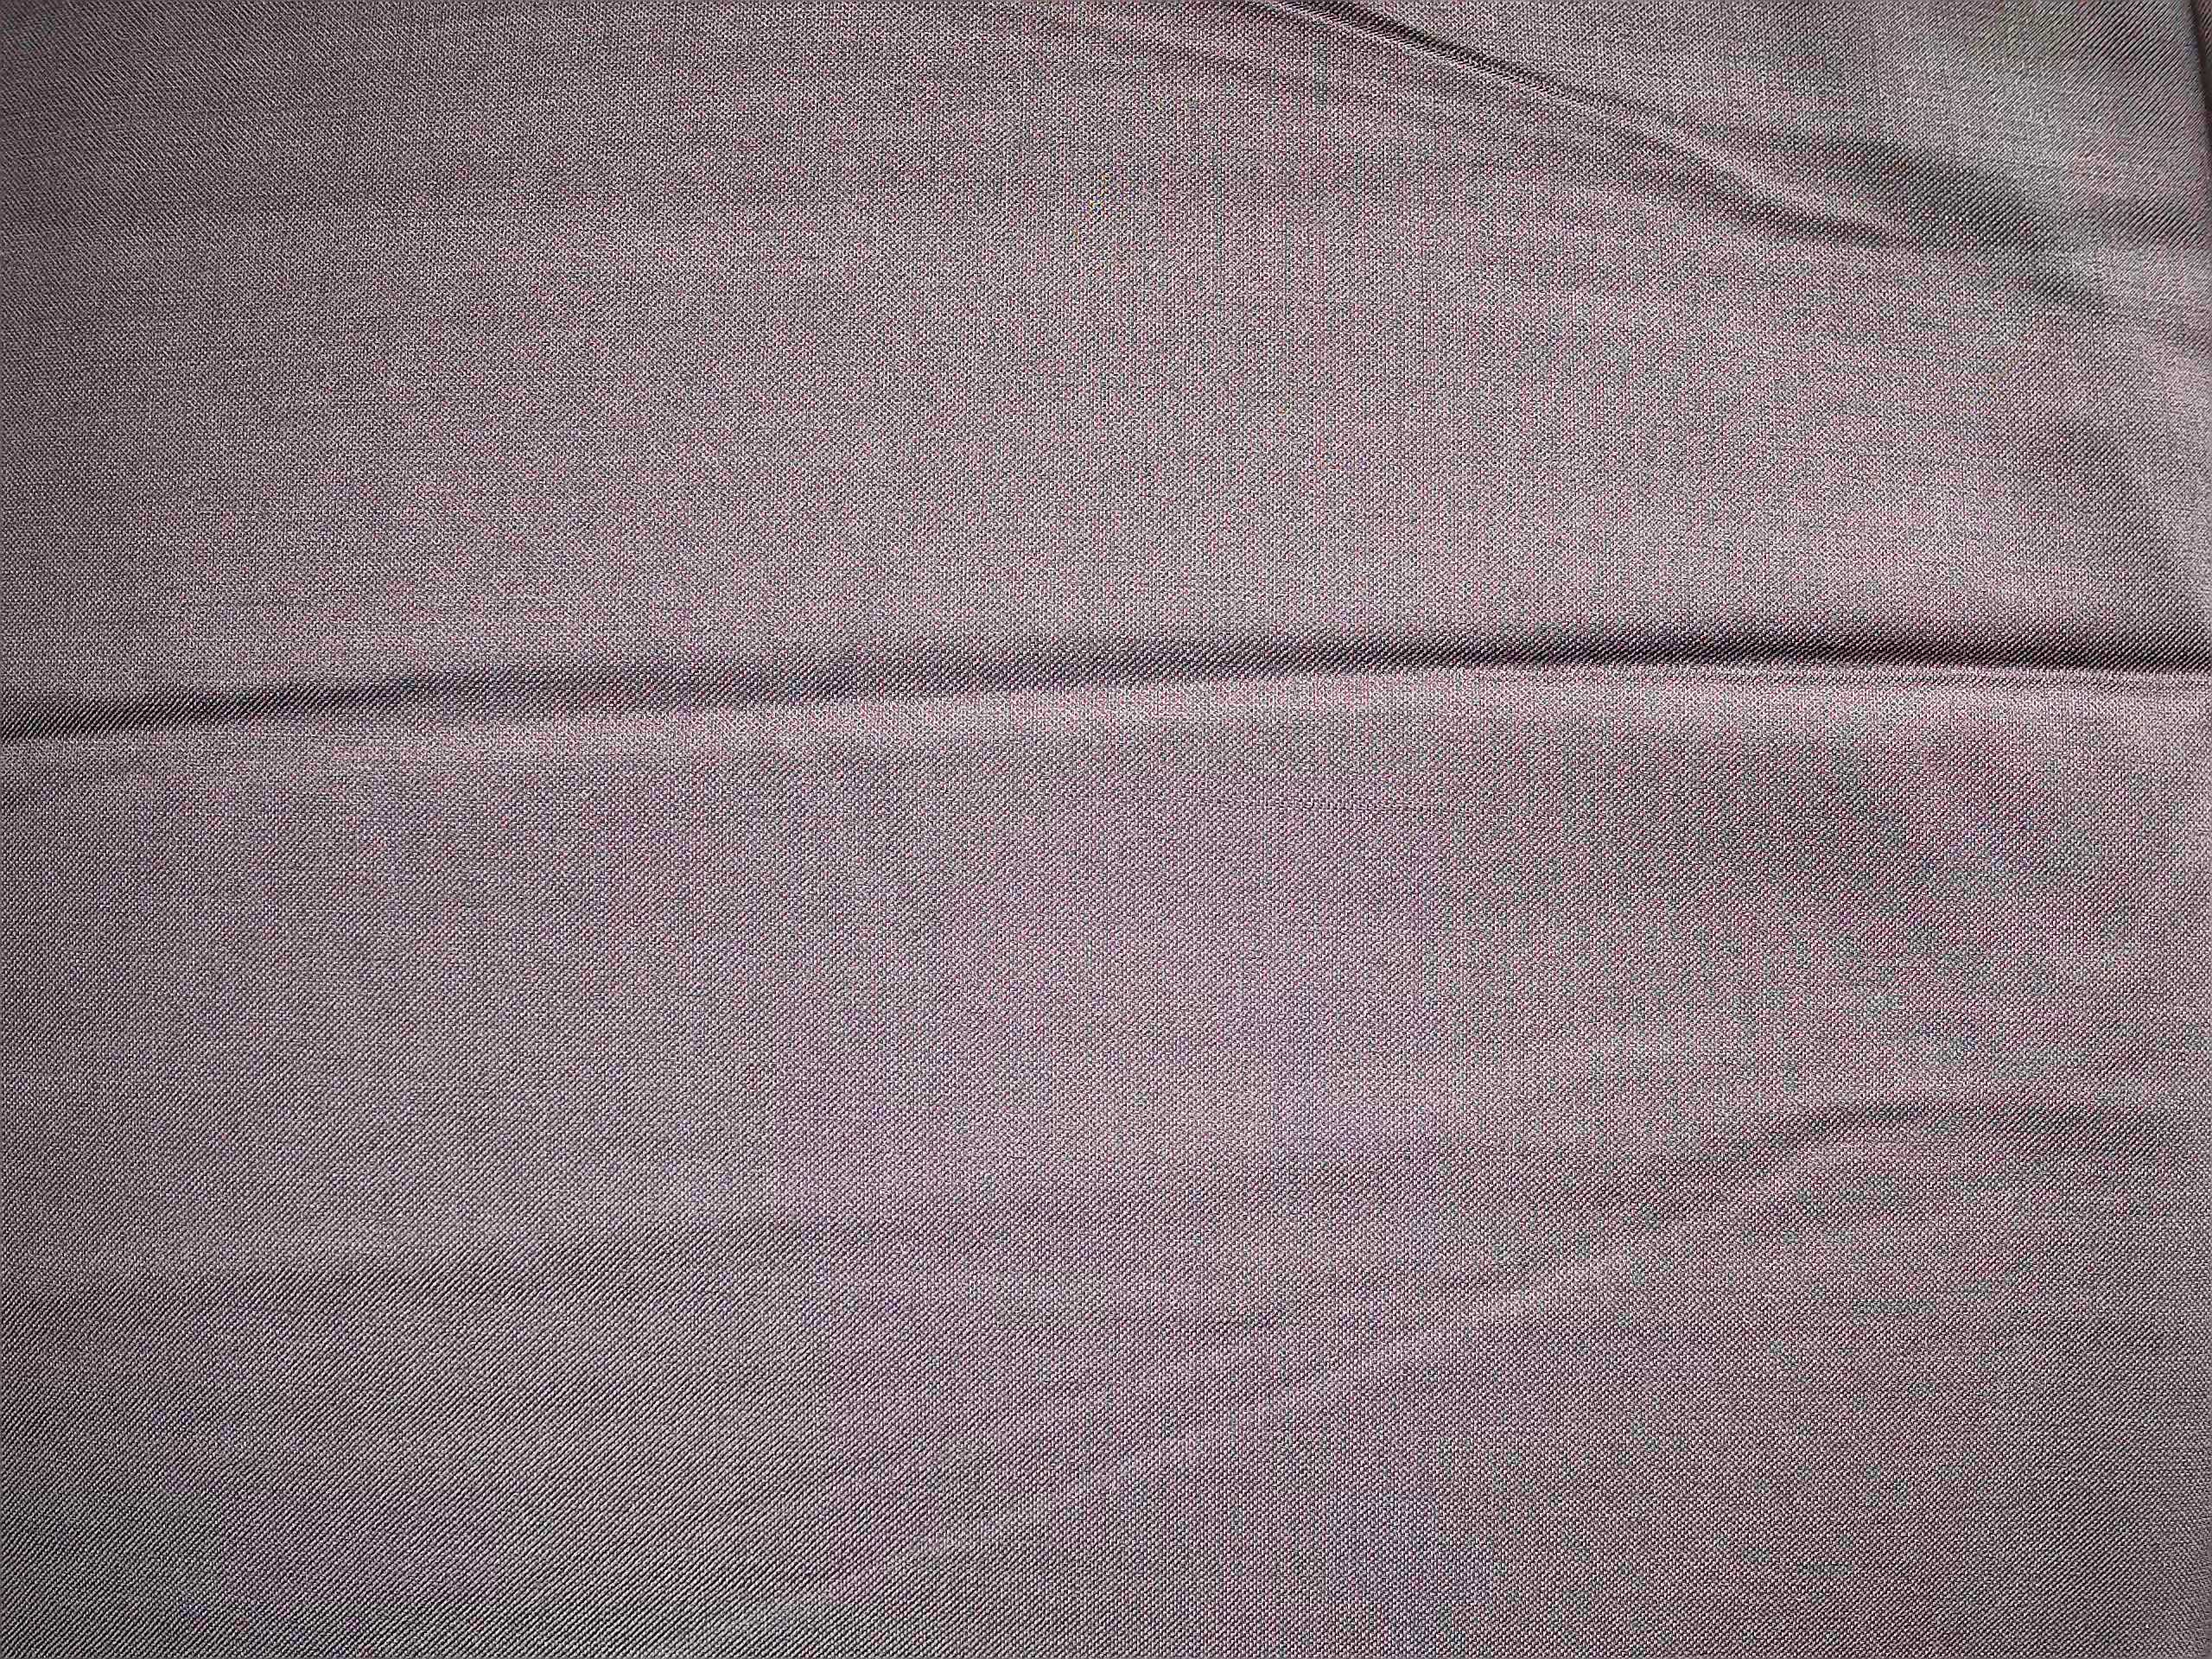thin-spinning: (1043, 765, 1597, 831)
